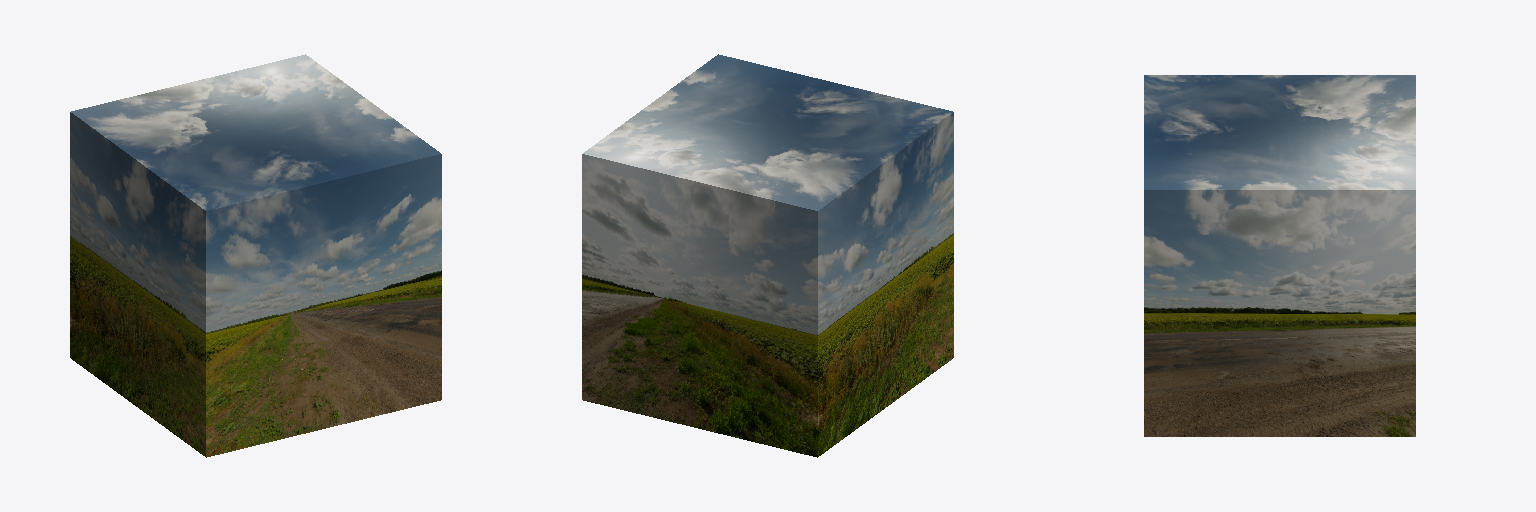
The picture shows the model from 3 angles: view 1: azimuth 30°, elevation 25°; view 2: azimuth 150°, elevation 25°; view 3: azimuth 270°, elevation 25°; orthographic projection.
Visible parts, largest first — view 1: Cube_Cube.001; view 2: Cube_Cube.001; view 3: Cube_Cube.001.
Boxes of the visible parts, x1=… form: Cube_Cube.001: x1=70, y1=54, x2=441, y2=457; Cube_Cube.001: x1=582, y1=54, x2=953, y2=457; Cube_Cube.001: x1=1144, y1=75, x2=1415, y2=436.
Bounding box in the file's own units: 2000 × 2000 × 2000.
Materials: 1 (1 with a texture image).